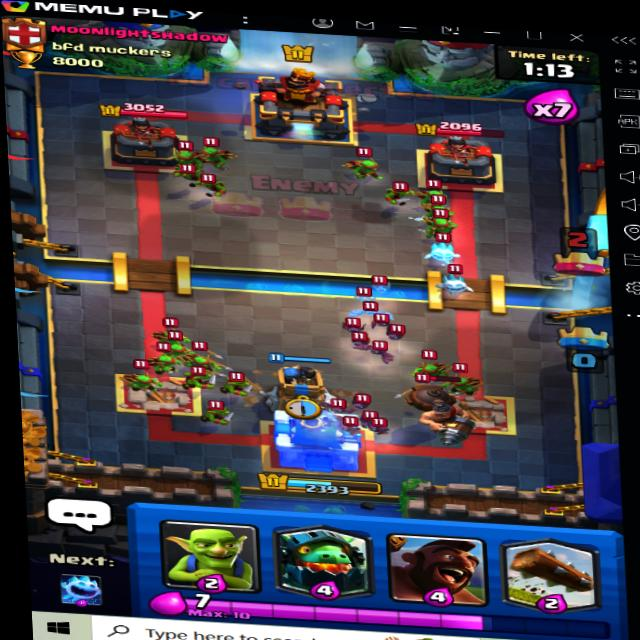bats: (357, 340, 403, 363), (341, 390, 377, 412), (360, 414, 394, 436), (335, 316, 368, 336), (337, 415, 364, 439), (384, 321, 410, 343)
goblin: (225, 368, 264, 398), (190, 172, 232, 199), (199, 398, 234, 425), (382, 180, 414, 206), (184, 366, 213, 391)
ice-spirit: (430, 263, 478, 296)
mighty-miner: (398, 373, 484, 449)
spear-goblin: (345, 146, 392, 182), (410, 346, 448, 381), (200, 136, 239, 169), (446, 364, 487, 395), (421, 211, 462, 237), (184, 352, 223, 375), (120, 368, 154, 394), (145, 349, 178, 372)
